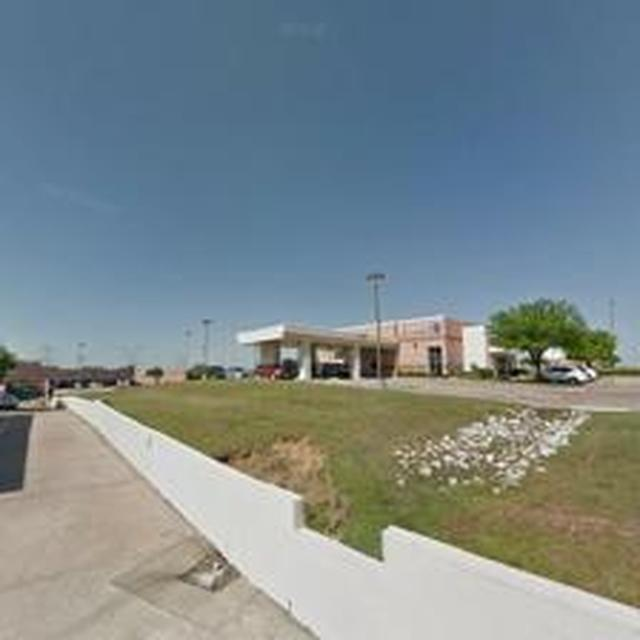building: (238, 312, 513, 380)
